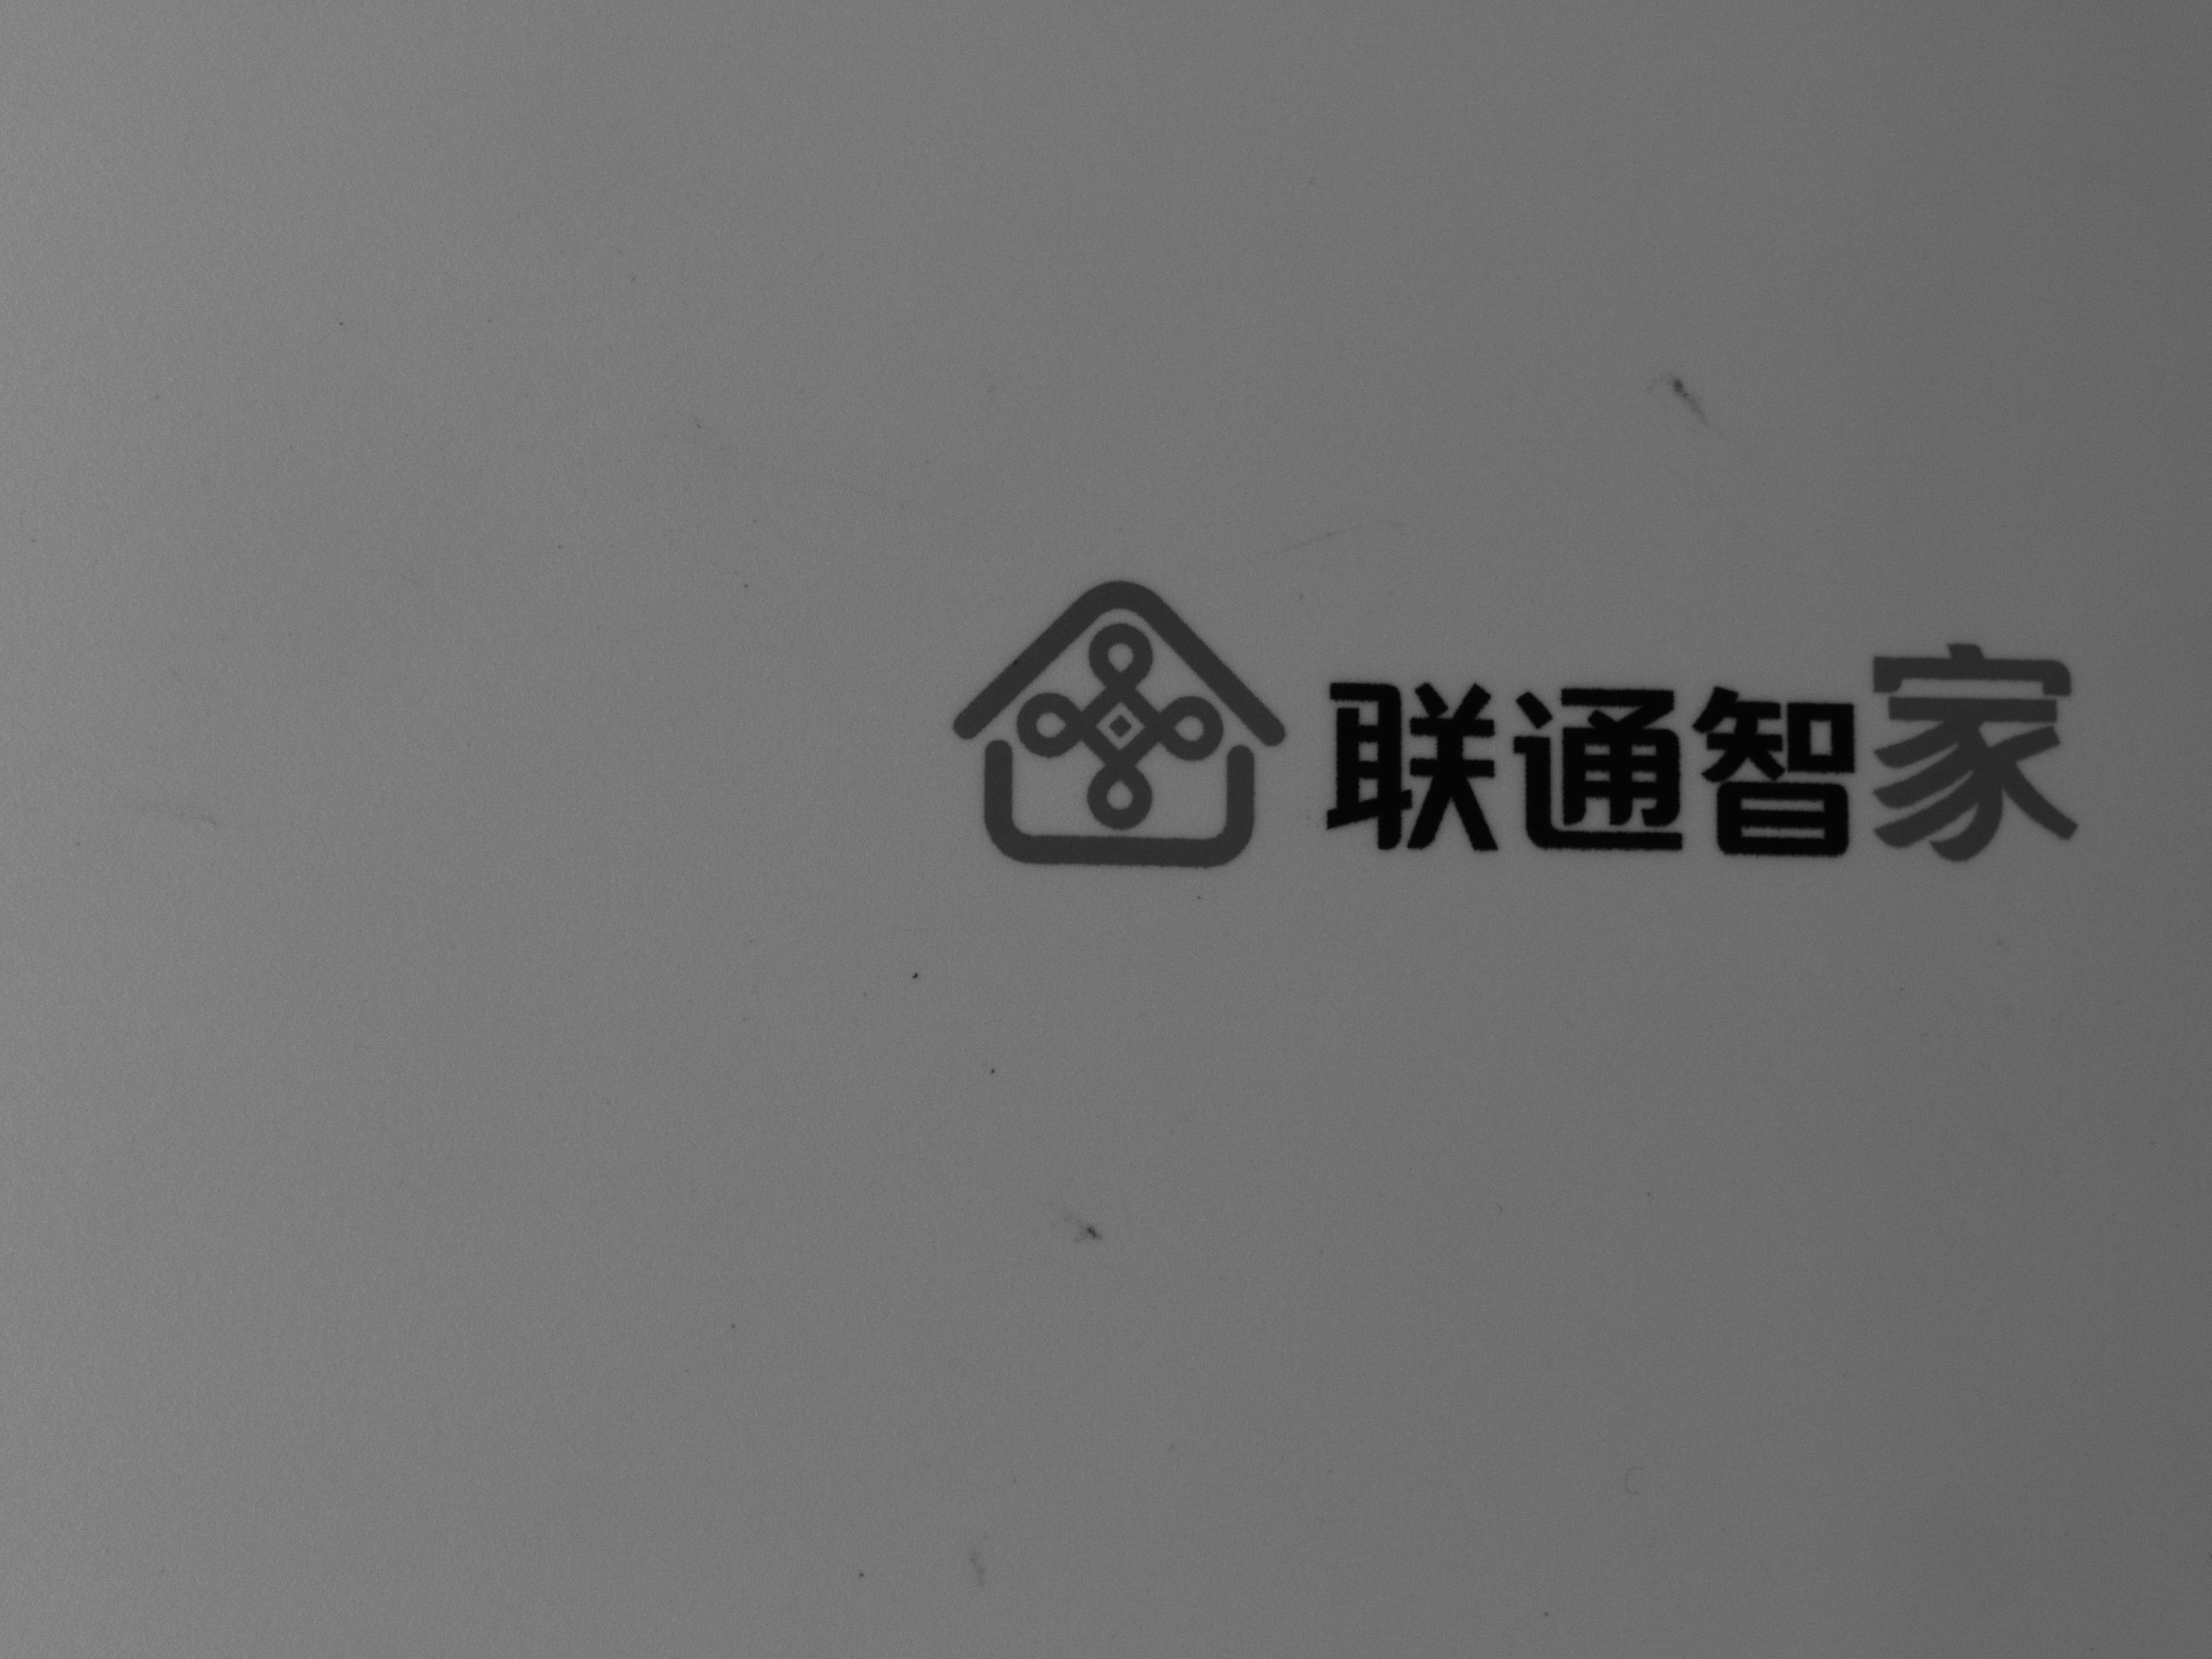BY_F6610Unicome: (902, 544, 2106, 904)
